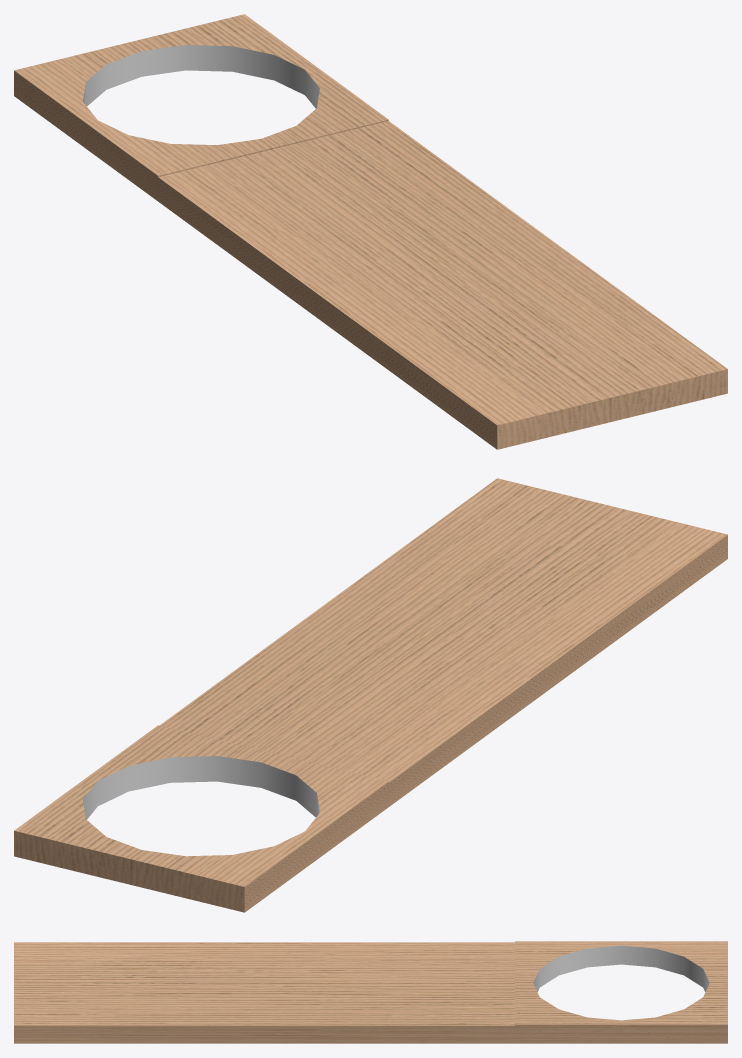
The model's file is StackHoot.fbx.
The picture shows the model from 3 angles, top to bottom: view 1: azimuth 30°, elevation 25°; view 2: azimuth 150°, elevation 25°; view 3: azimuth 270°, elevation 25°; orthographic projection. The views are drawn at different scales.
Visible parts, largest first — view 1: Cube; view 2: Cube; view 3: Cube.
Part boxes in pixels (left/top/right/bottom): Cube: left=14, top=14, right=727, bottom=449; Cube: left=14, top=478, right=727, bottom=912; Cube: left=14, top=941, right=727, bottom=1043.
Bounding box in the file's own units: 127 × 13.54 × 462.
Materials: 2 (1 with a texture image).
